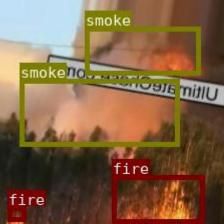fire: (111, 174, 203, 223), (7, 205, 25, 221)
smoke: (19, 78, 179, 146), (84, 26, 200, 74)
